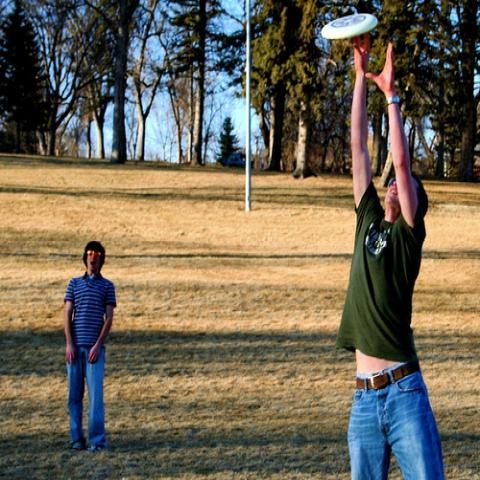car: (227, 154, 246, 168)
